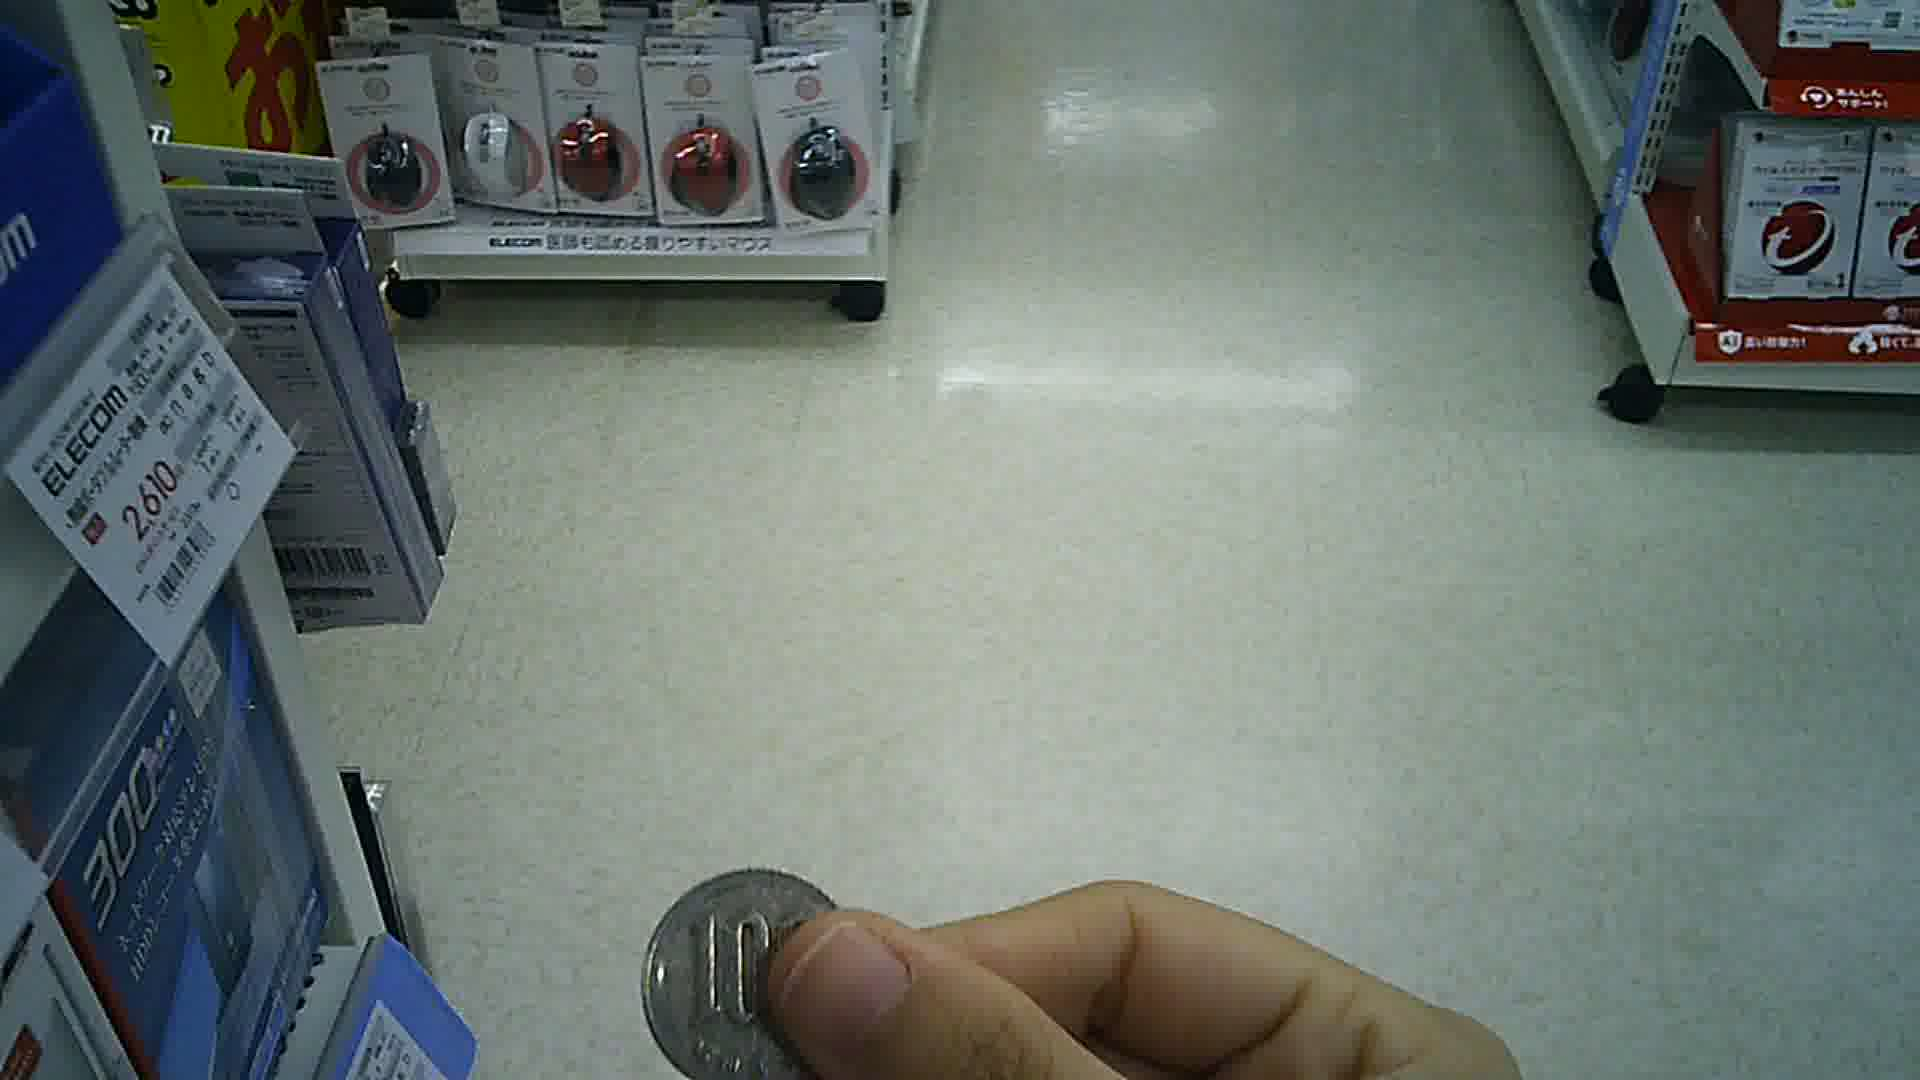100 Yen: (630, 862, 851, 1073)
